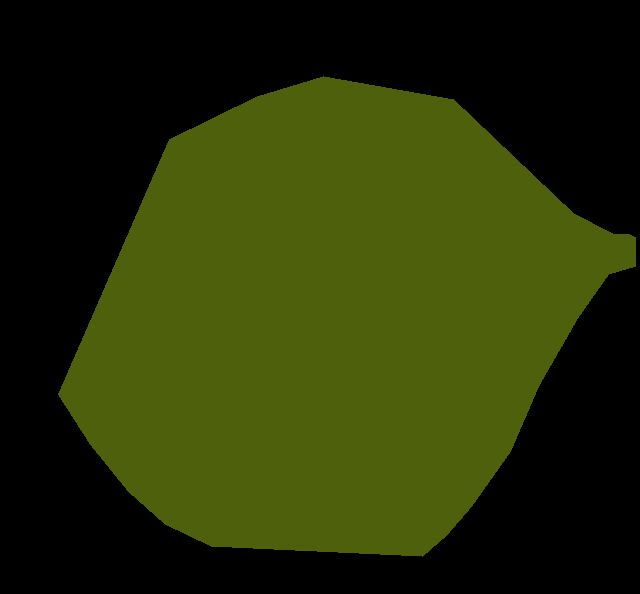Train: (58, 76, 635, 557)
